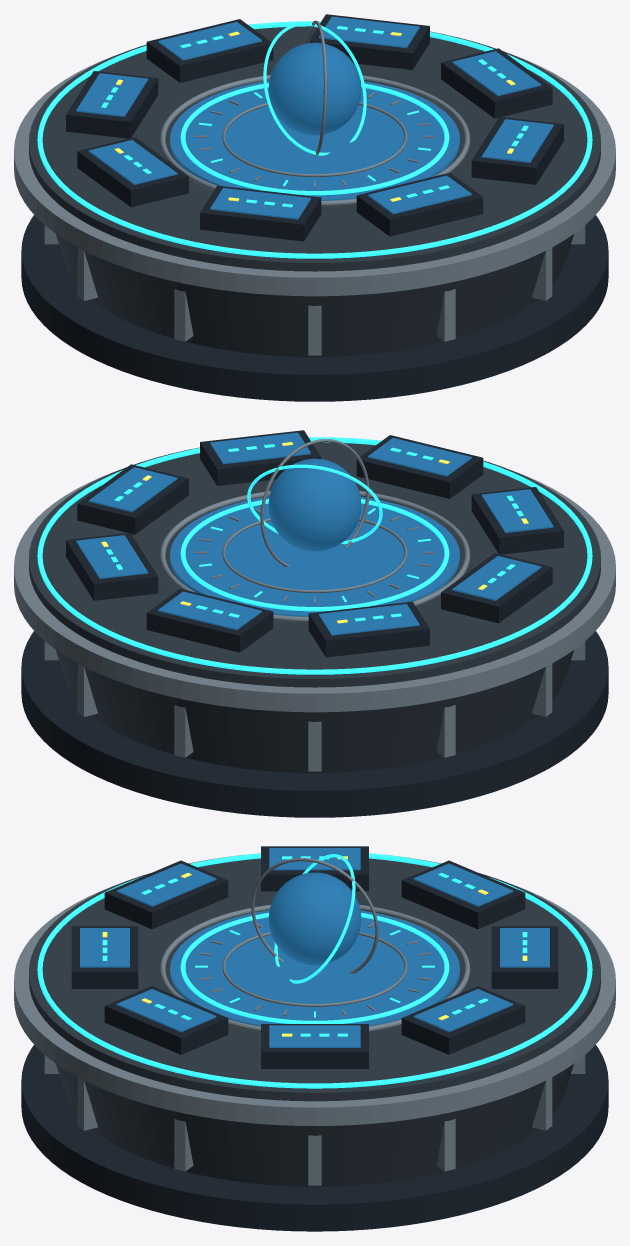
The model's file is mission_console.glb.
The picture shows the model from 3 angles, top to bottom: view 1: azimuth 30°, elevation 25°; view 2: azimuth 150°, elevation 25°; view 3: azimuth 270°, elevation 25°; orthographic projection.
Visible parts, largest first — view 1: 04 | Dark control deck, 01 | Recessed lower plinth, 02 | Angled structural pedestal, 07 | Central recessed screen, 03 | Metallic upper rim, Earth navigation globe, 05 | Outer cyan light channel, Control panel 6 housing, Control panel 2 housing, Control panel 5 housing, Control panel 0 housing, Control panel 4 housing (+21 smaller); view 2: 04 | Dark control deck, 01 | Recessed lower plinth, 02 | Angled structural pedestal, 07 | Central recessed screen, 03 | Metallic upper rim, Earth navigation globe, 05 | Outer cyan light channel, Control panel 2 housing, Control panel 6 housing, Control panel 3 housing, Control panel 0 housing, Control panel 4 housing (+21 smaller); view 3: 04 | Dark control deck, 01 | Recessed lower plinth, 02 | Angled structural pedestal, 07 | Central recessed screen, 03 | Metallic upper rim, Earth navigation globe, 05 | Outer cyan light channel, Control panel 1 housing, Control panel 3 housing, Control panel 5 housing, Control panel 7 housing, Control panel 0 housing (+21 smaller).
Part boxes in pixels (x1,y1,x2,y2): 04 | Dark control deck: [29, 26, 600, 271]; 01 | Recessed lower plinth: [21, 215, 608, 401]; 02 | Angled structural pedestal: [56, 234, 573, 356]; 07 | Central recessed screen: [170, 80, 459, 200]; 03 | Metallic upper rim: [14, 56, 615, 296]; Earth navigation globe: [268, 42, 361, 135]; 05 | Outer cyan light channel: [37, 21, 592, 258]; Control panel 6 housing: [356, 172, 483, 236]; Control panel 2 housing: [146, 19, 273, 82]; Control panel 5 housing: [200, 185, 321, 241]; Control panel 0 housing: [441, 48, 552, 118]; Control panel 4 housing: [77, 137, 188, 207]; 04 | Dark control deck: [29, 442, 600, 687]; 01 | Recessed lower plinth: [21, 631, 608, 817]; 02 | Angled structural pedestal: [56, 650, 573, 772]; 07 | Central recessed screen: [170, 496, 459, 616]; 03 | Metallic upper rim: [14, 472, 615, 712]; Earth navigation globe: [268, 458, 361, 551]; 05 | Outer cyan light channel: [37, 437, 592, 674]; Control panel 2 housing: [146, 588, 273, 652]; Control panel 6 housing: [356, 435, 483, 498]; Control panel 3 housing: [308, 601, 429, 657]; Control panel 0 housing: [77, 464, 188, 534]; Control panel 4 housing: [441, 553, 552, 623]; 04 | Dark control deck: [29, 854, 600, 1101]; 01 | Recessed lower plinth: [21, 1045, 608, 1231]; 02 | Angled structural pedestal: [56, 1064, 573, 1186]; 07 | Central recessed screen: [170, 910, 459, 1026]; 03 | Metallic upper rim: [14, 885, 615, 1125]; Earth navigation globe: [268, 872, 361, 965]; 05 | Outer cyan light channel: [37, 853, 592, 1088]; Control panel 1 housing: [401, 986, 525, 1054]; Control panel 3 housing: [401, 860, 525, 929]; Control panel 5 housing: [104, 860, 228, 929]; Control panel 7 housing: [104, 986, 228, 1054]; Control panel 0 housing: [261, 1024, 368, 1068].
Bounding box in the file's own units: 3.24 × 1.49 × 3.24.
